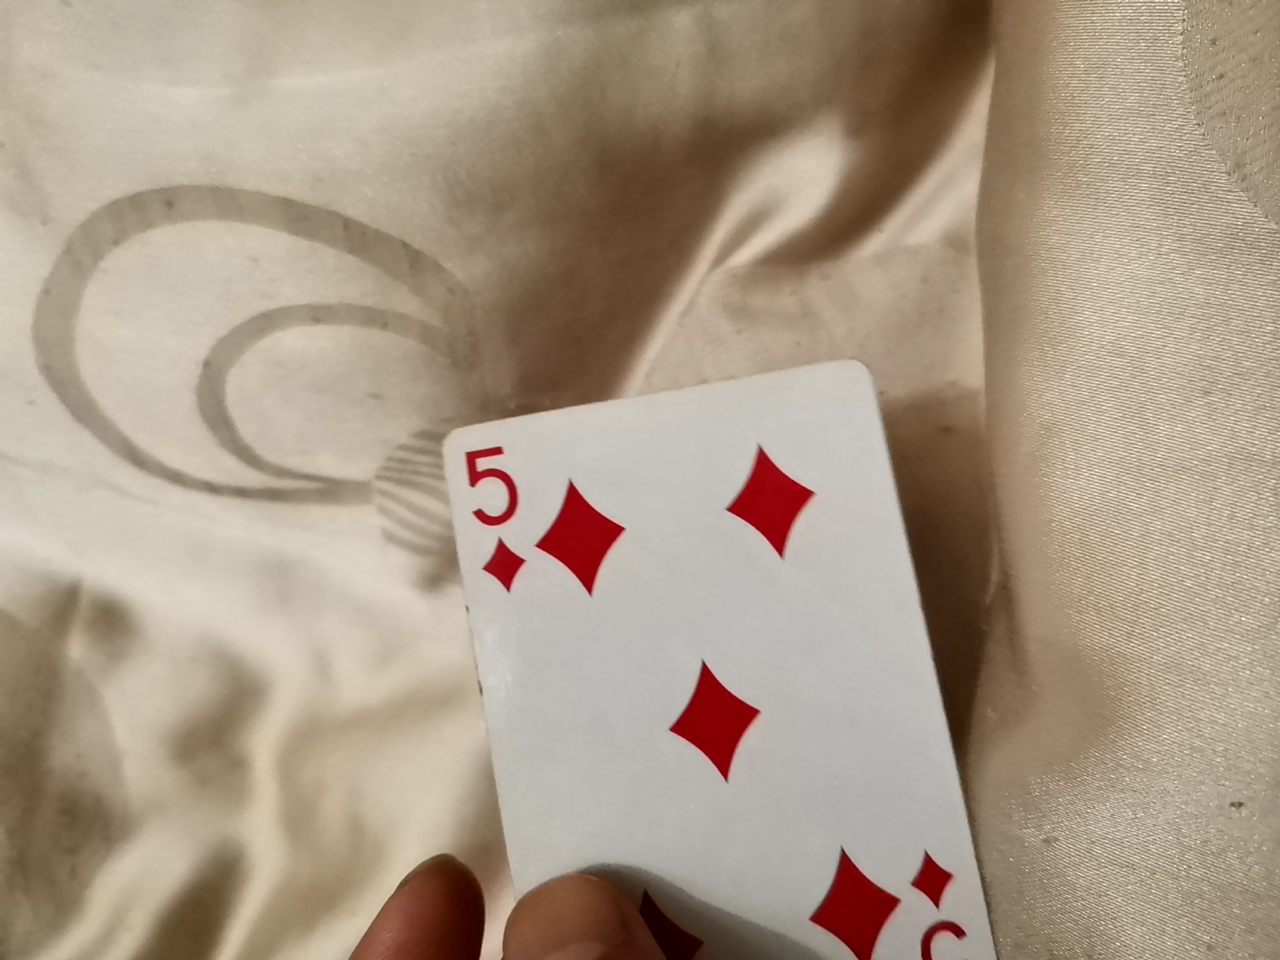fk 5: (434, 383, 1039, 960)
